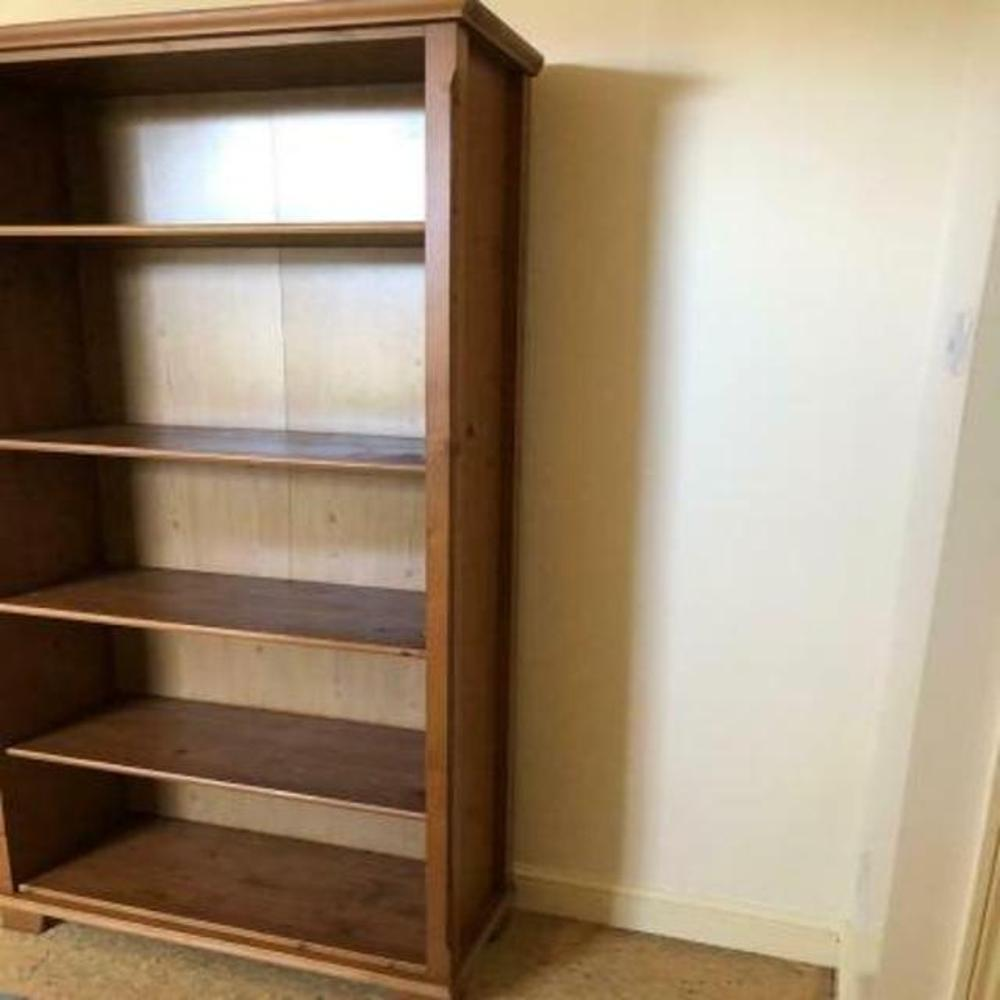lamp: (0, 1, 553, 999)
